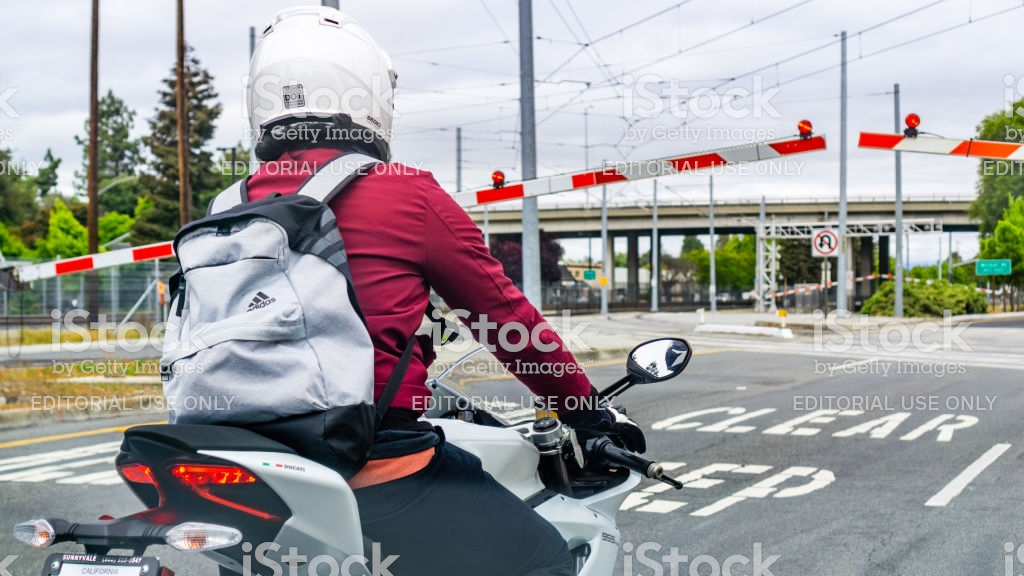helmet: (252, 14, 406, 150)
